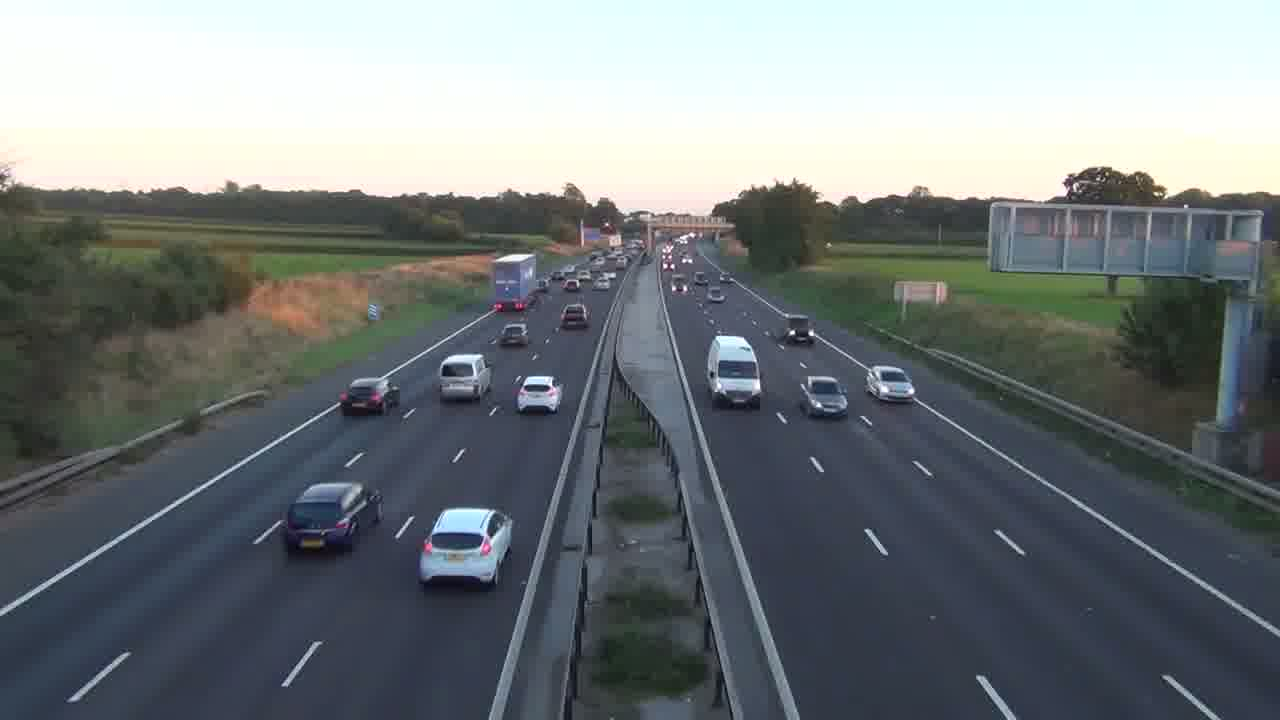car: (417, 506, 514, 591), (282, 480, 382, 552), (437, 352, 491, 404), (798, 375, 849, 419), (340, 376, 390, 416), (864, 365, 916, 403), (515, 373, 563, 414), (560, 301, 590, 331), (498, 322, 529, 347)
truck: (706, 334, 763, 409)
